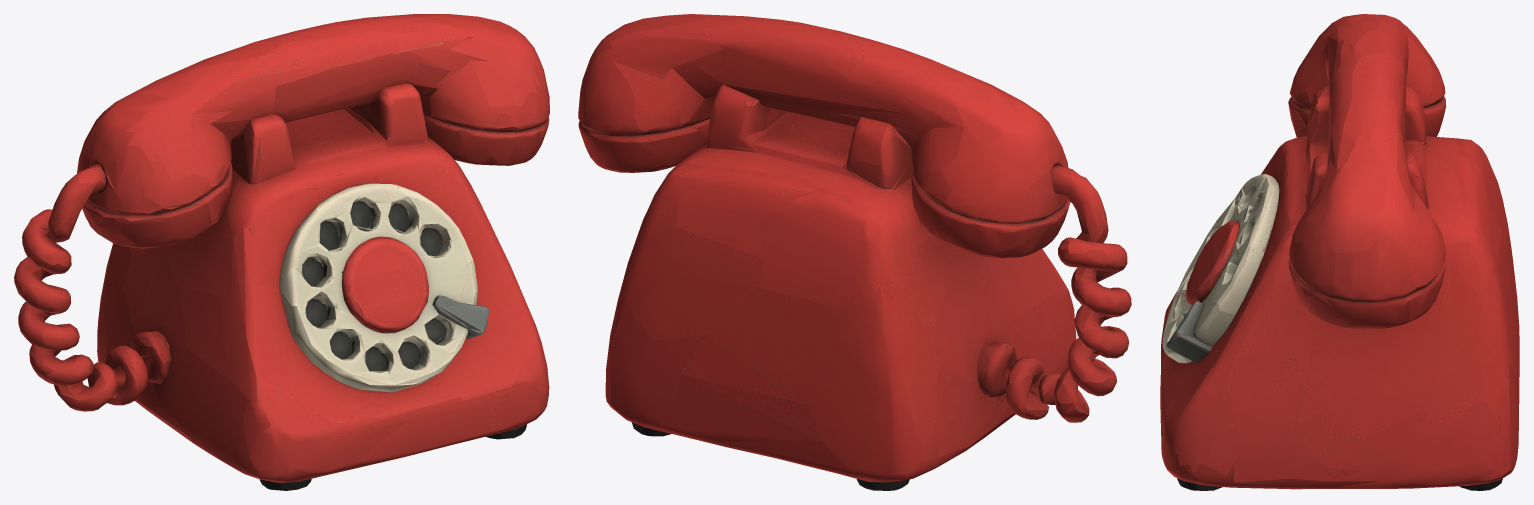
Rendered from phone_red.glb.
3 renders of one model, left to right at view 1: azimuth 30°, elevation 25°; view 2: azimuth 150°, elevation 25°; view 3: azimuth 270°, elevation 25°, orthographic. The views are drawn at different scales.
Parts seen in each view (by area): view 1: mesh_node; view 2: mesh_node; view 3: mesh_node.
Part boxes in pixels (x1=…): mesh_node: x1=14, y1=14, x2=549, y2=490; mesh_node: x1=578, y1=14, x2=1131, y2=490; mesh_node: x1=1160, y1=14, x2=1519, y2=490.
Size of the model in its own units: 0.12 by 0.0803 by 0.0727.
Materials: 1 (1 with a texture image).
